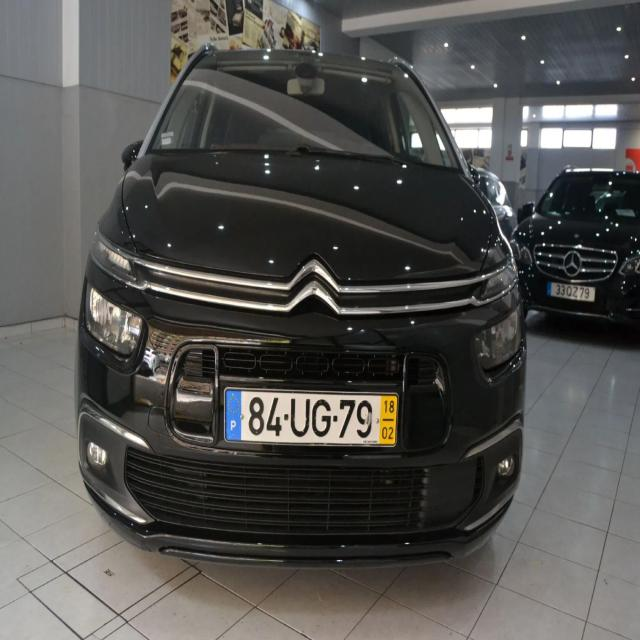portuguese-license-plates: (221, 385, 402, 452)
